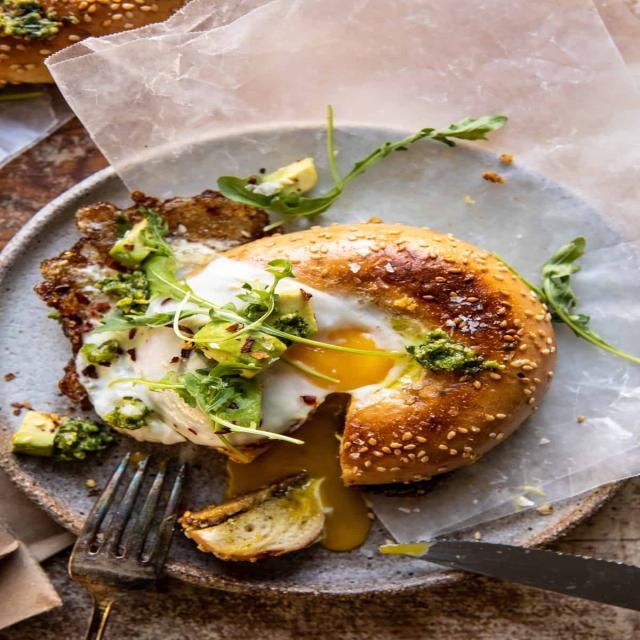Bagel: (225, 222, 557, 485)
Egg: (36, 191, 428, 459)
